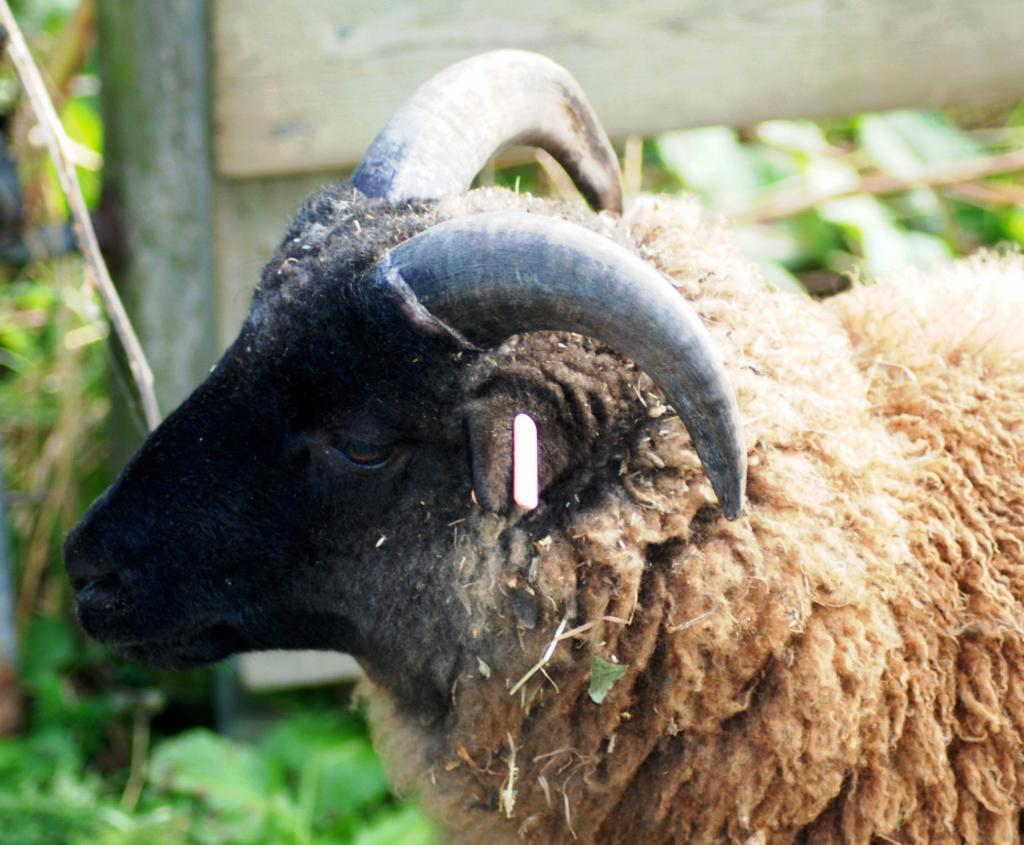Sheep: (58, 45, 1022, 845)
